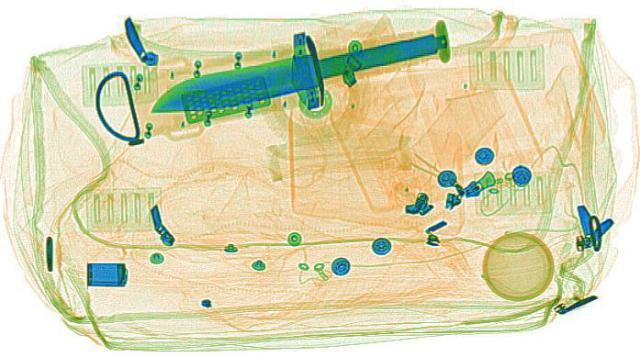Knife: (105, 0, 485, 144)
